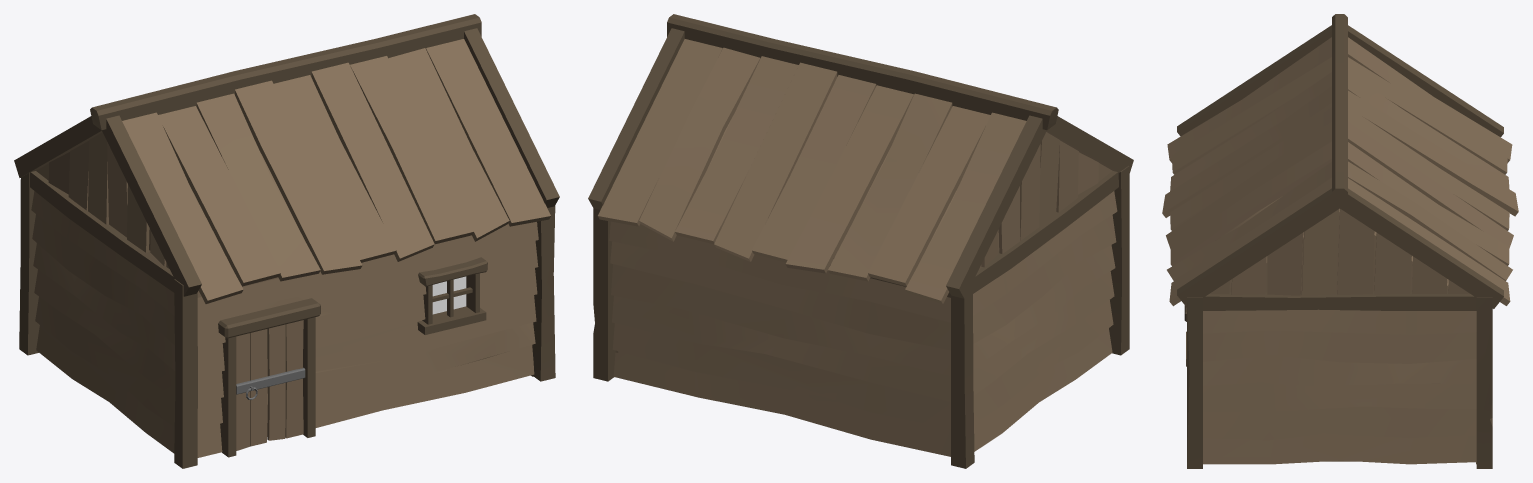
File: village_wood_house_a.FBX
3 renders of one model, left to right at view 1: azimuth 30°, elevation 25°; view 2: azimuth 150°, elevation 25°; view 3: azimuth 270°, elevation 25°, orthographic. The views are drawn at different scales.
Parts seen in each view (by area): view 1: village_wood_house_a; view 2: village_wood_house_a; view 3: village_wood_house_a.
Part boxes in pixels (left/top/right/bottom): village_wood_house_a: left=14, top=14, right=559, bottom=468; village_wood_house_a: left=588, top=14, right=1133, bottom=468; village_wood_house_a: left=1162, top=14, right=1518, bottom=468.
Bounding box in the file's own units: 6.42 × 4.89 × 5.54.
